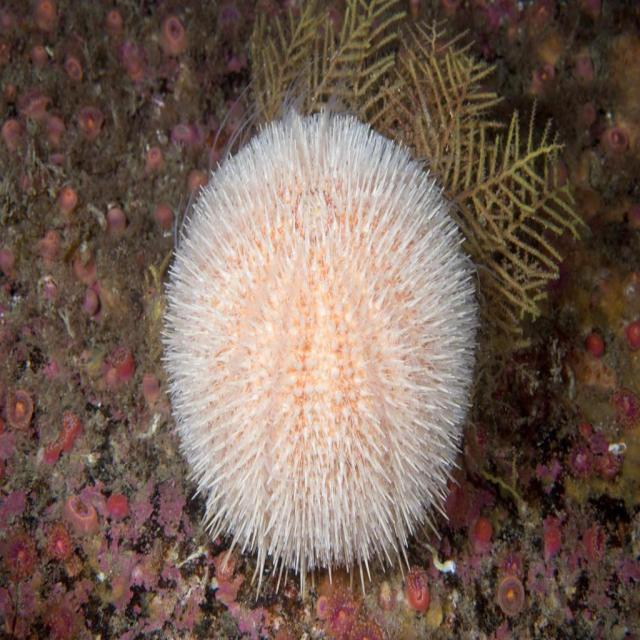Deniz Kestanesi: (158, 54, 480, 601)
